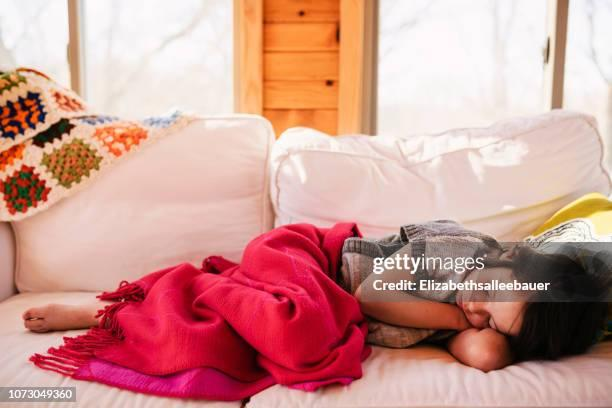blanket: (27, 221, 362, 408)
